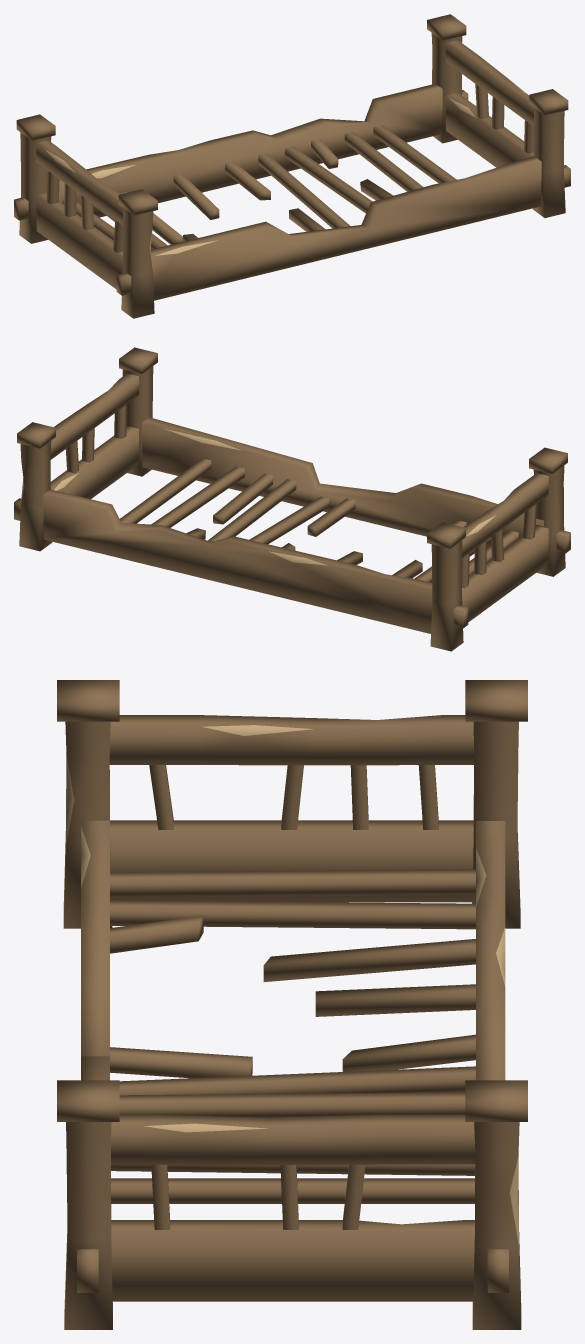
The model's file is rpgpp_av_bed_01b.gltf.
3 renders of one model, top to bottom at view 1: azimuth 30°, elevation 25°; view 2: azimuth 150°, elevation 25°; view 3: azimuth 270°, elevation 25°, orthographic. The views are drawn at different scales.
Parts seen in each view (by area): view 1: rpgpp_av_bed_01b; view 2: rpgpp_av_bed_01b; view 3: rpgpp_av_bed_01b.
Boxes of the visible parts, box(x1,y1,x2,y2) form: rpgpp_av_bed_01b: box(14, 14, 570, 318); rpgpp_av_bed_01b: box(14, 347, 570, 651); rpgpp_av_bed_01b: box(57, 680, 527, 1329).
Bounding box in the file's own units: 0.0274 × 0.00664 × 0.0125.
Materials: 1 (1 with a texture image).
